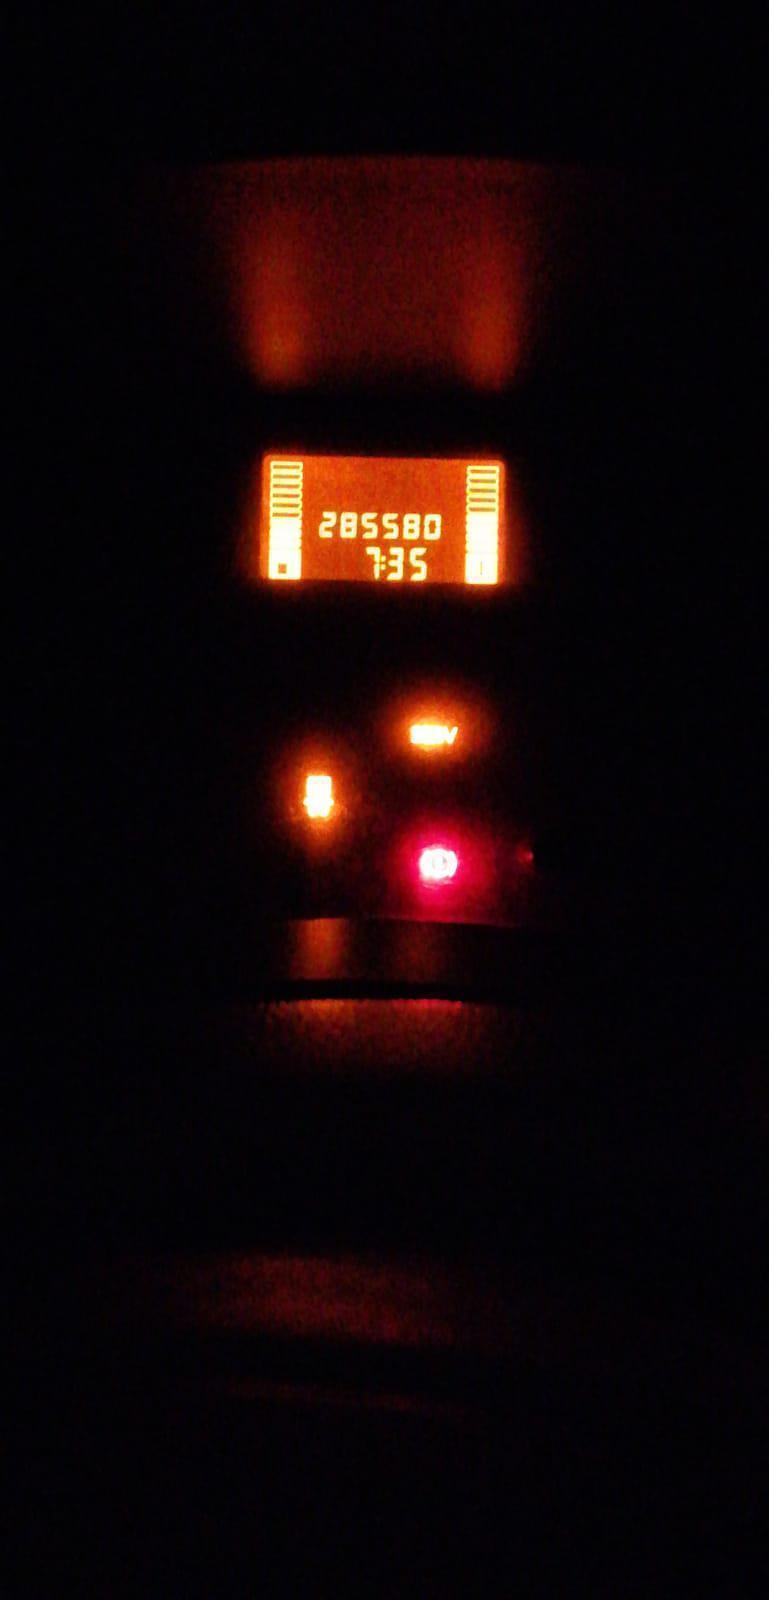0: (422, 513, 441, 540)
2: (318, 511, 337, 538)
3: (386, 546, 404, 580)
5: (408, 547, 427, 581), (360, 512, 378, 539), (382, 512, 399, 539)
7: (364, 546, 381, 580)
8: (339, 511, 358, 538), (402, 512, 420, 539)
X: (380, 555, 386, 571)
odometer: (256, 452, 508, 588)
